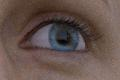eye: (49, 23, 79, 51)
